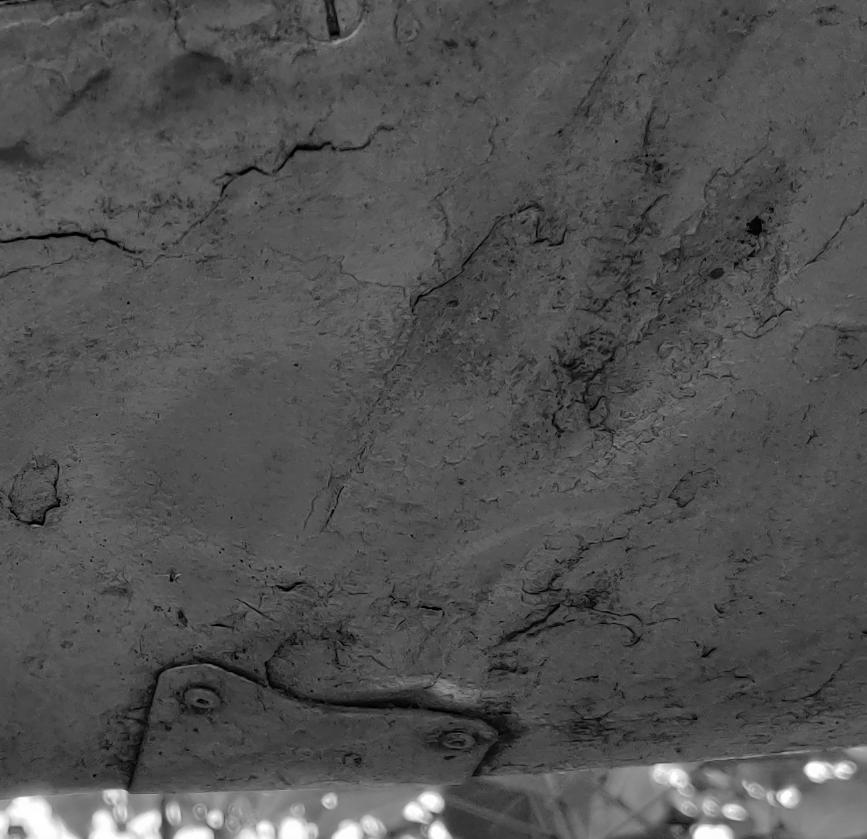dent: (1, 0, 867, 839)
